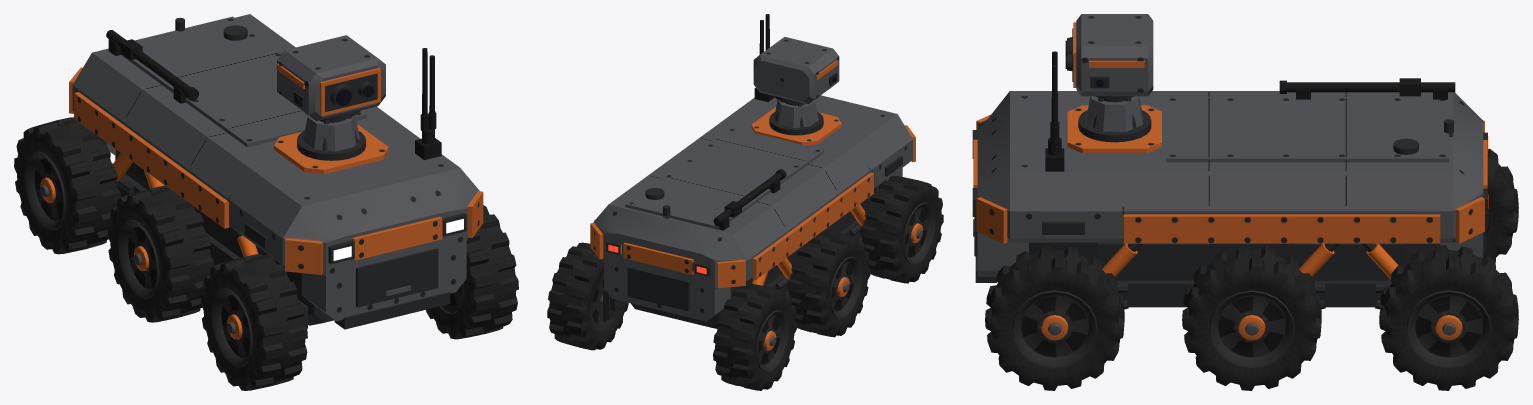
The model's file is drone.glb.
3 views of the same model, side by side, from view 1: azimuth 30°, elevation 25°; view 2: azimuth 150°, elevation 25°; view 3: azimuth 270°, elevation 25° (orthographic). The views are drawn at different scales.
Parts seen in each view (by area): view 1: Hull, Camera_Turret, Wheel_Front_Right, Wheel_Middle_Right, Wheel_Rear_Right, Wheel_Front_Left, Chassis, Antenna, Handle_Bar, Suspension_Right; view 2: Hull, Camera_Turret, Wheel_Rear_Right, Wheel_Front_Right, Wheel_Middle_Right, Wheel_Rear_Left, Chassis, Handle_Bar, Suspension_Right, Antenna; view 3: Hull, Wheel_Rear_Left, Wheel_Middle_Left, Wheel_Front_Left, Camera_Turret, Chassis, Wheel_Rear_Right, Handle_Bar, Suspension_Left, Antenna.
Part boxes in pixels (box(x1,y1,x2,y2)): Hull: box(69, 14, 483, 329); Camera_Turret: box(274, 35, 388, 174); Wheel_Front_Right: box(201, 254, 307, 390); Wheel_Middle_Right: box(107, 185, 214, 322); Wheel_Rear_Right: box(14, 117, 120, 254); Wheel_Front_Left: box(426, 205, 518, 339); Chassis: box(112, 150, 334, 328); Antenna: box(415, 48, 441, 160); Handle_Bar: box(106, 30, 198, 103); Suspension_Right: box(112, 153, 258, 256); Hull: box(590, 95, 915, 321); Camera_Turret: box(751, 37, 841, 145); Wheel_Rear_Right: box(713, 283, 796, 390); Wheel_Front_Right: box(860, 175, 943, 283); Wheel_Middle_Right: box(787, 230, 870, 337); Wheel_Rear_Left: box(547, 242, 628, 350); Chassis: box(610, 187, 876, 328); Handle_Bar: box(713, 169, 786, 230); Suspension_Right: box(751, 204, 865, 294); Antenna: box(754, 14, 774, 102); Hull: box(972, 91, 1488, 282); Wheel_Rear_Left: box(1379, 245, 1518, 390); Wheel_Middle_Left: box(1182, 245, 1321, 390); Wheel_Front_Left: box(985, 245, 1124, 390); Camera_Turret: box(1065, 14, 1161, 153); Chassis: box(1029, 242, 1440, 307); Wheel_Rear_Right: box(1483, 148, 1518, 261); Handle_Bar: box(1279, 78, 1455, 99); Suspension_Left: box(1051, 243, 1452, 315); Antenna: box(1045, 51, 1064, 171).
Bounding box in the file's own units: 0.744 × 0.793 × 1.28.
Materials: 13 (5 with a texture image).
